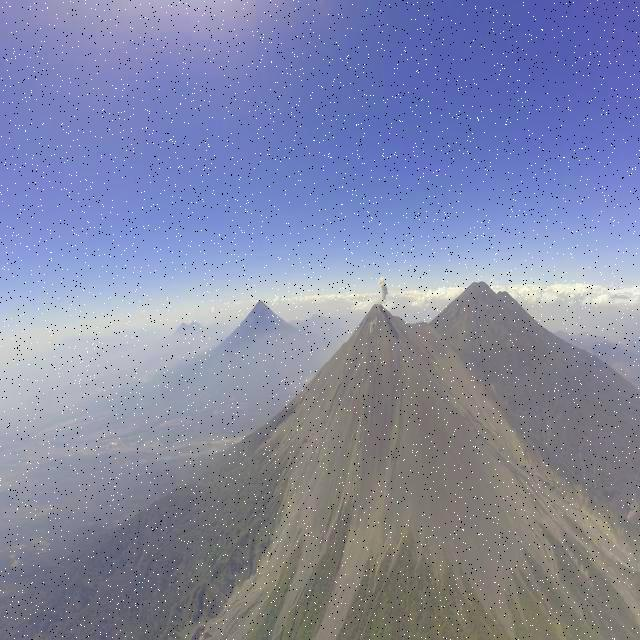Plume: (375, 277, 387, 305)
Summit: (349, 302, 407, 343)
